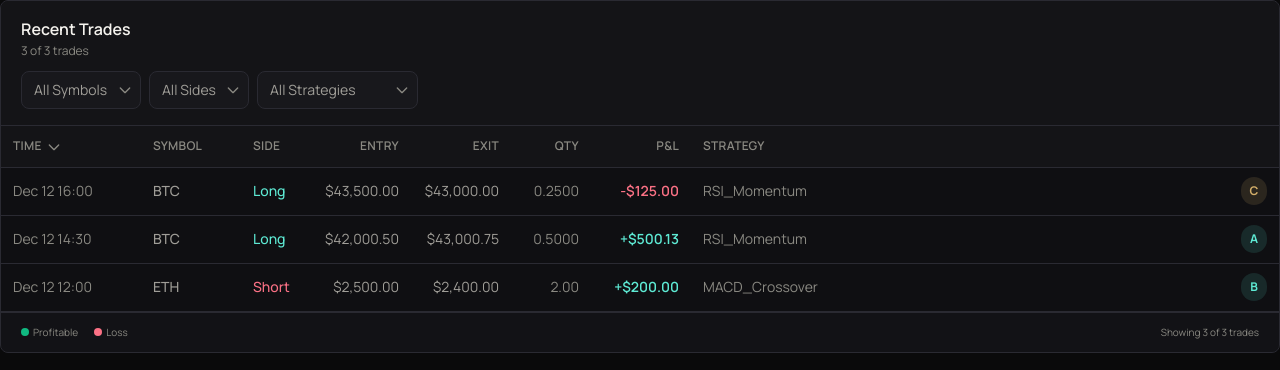
Test case: RecentTrades Component › Filtering › clears filters when clear button clicked
The width and height of the screenshot is (1280, 370).
Apply filter
Step 1. Select "BTC" in the 1st dropdown → (81, 90), box [21,71,141,109]
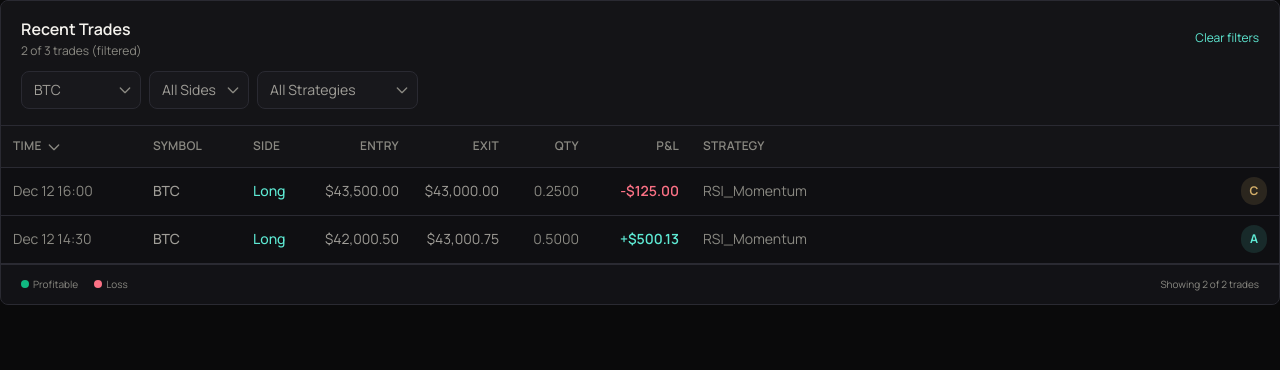
Clear filters
Step 2. Click the button "Clear filters" → (1227, 38), box [1195,30,1259,46]
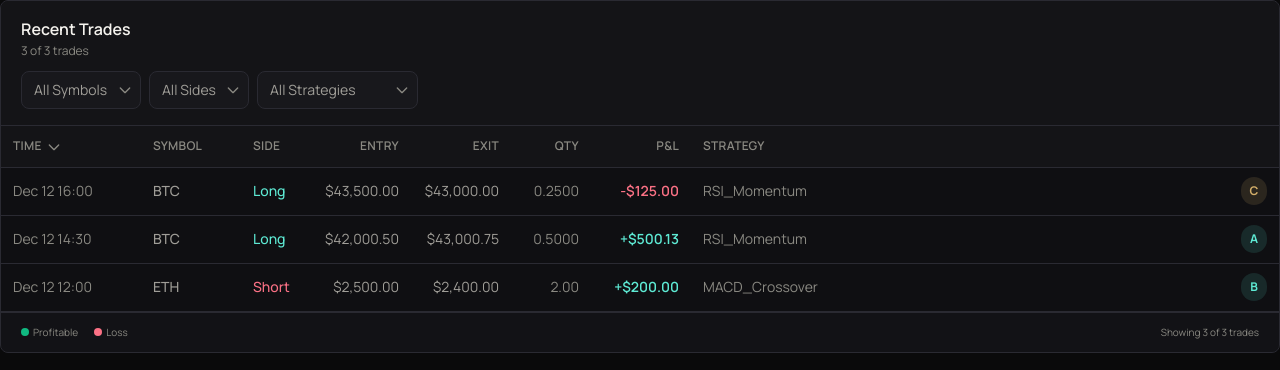
Result: the text "3 of 3 trades" is shown at [21,42,89,59]
